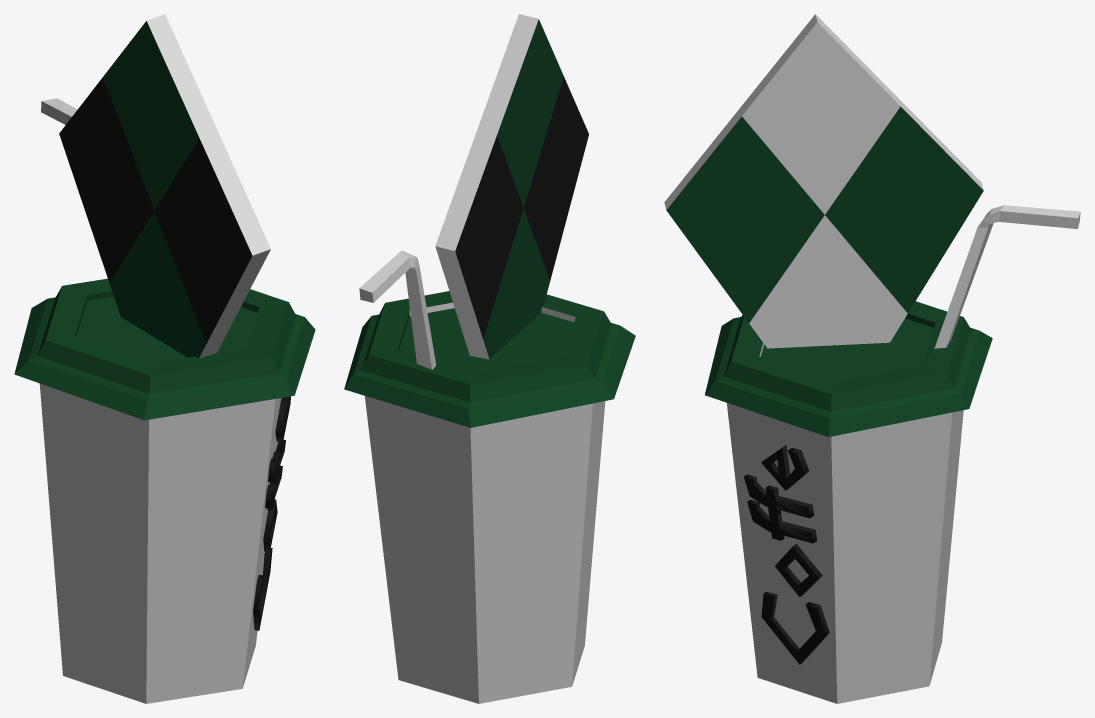
File: коферомб.fbx
3 views of the same model, side by side, from view 1: azimuth 30°, elevation 25°; view 2: azimuth 150°, elevation 25°; view 3: azimuth 270°, elevation 25° (orthographic). The views are drawn at different scales.
Parts seen in each view (by area): view 1: чашка; view 2: чашка; view 3: чашка.
Boxes of the visible parts, x1,y1,x2,y2 form: чашка: (14, 14, 315, 703); чашка: (344, 14, 635, 703); чашка: (664, 14, 1080, 703).
Bounding box in the file's own units: 143 × 324 × 192.
